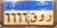6: (10, 11, 16, 23), (23, 11, 28, 22), (17, 11, 22, 21), (6, 12, 10, 22)
ر: (46, 11, 52, 22)
ق: (29, 12, 38, 24)
و: (38, 13, 45, 22)
